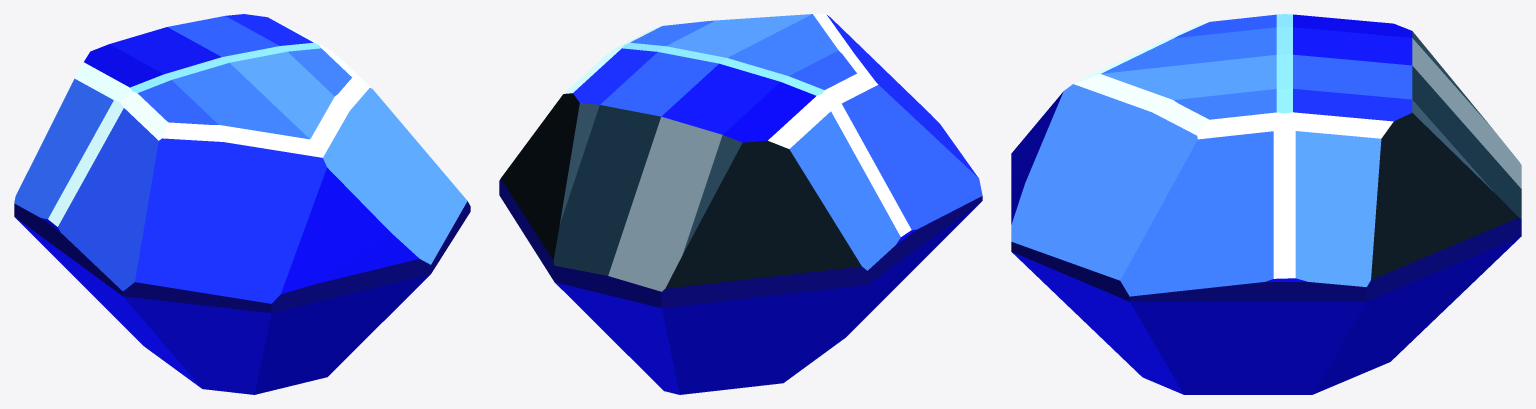
The model's file is crystal_small.glb.
3 views of the same model, side by side, from view 1: azimuth 30°, elevation 25°; view 2: azimuth 150°, elevation 25°; view 3: azimuth 270°, elevation 25° (orthographic). The views are drawn at different scales.
Visible parts, largest first — view 1: crystal_small; view 2: crystal_small; view 3: crystal_small.
Part boxes in pixels (x1,y1,x2,y2): crystal_small: (14, 14, 470, 394); crystal_small: (499, 14, 982, 394); crystal_small: (1011, 14, 1521, 394).
Size of the model in its own units: 12 by 9.18 by 14.
